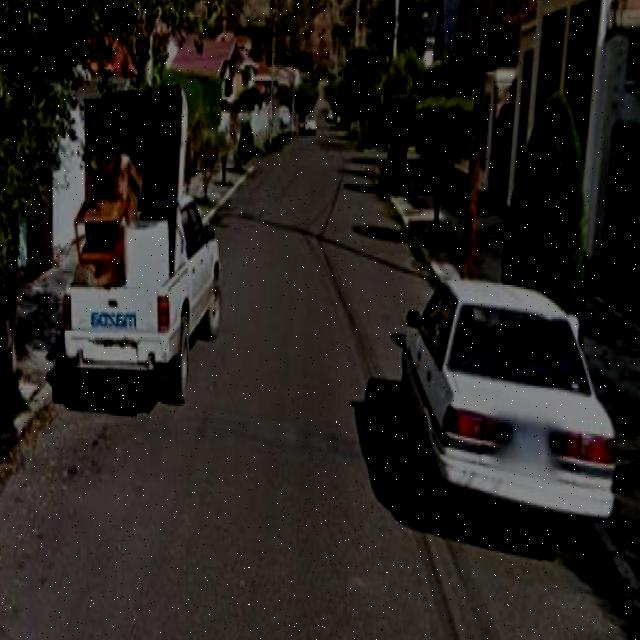car: (404, 282, 606, 543), (55, 182, 214, 420)
